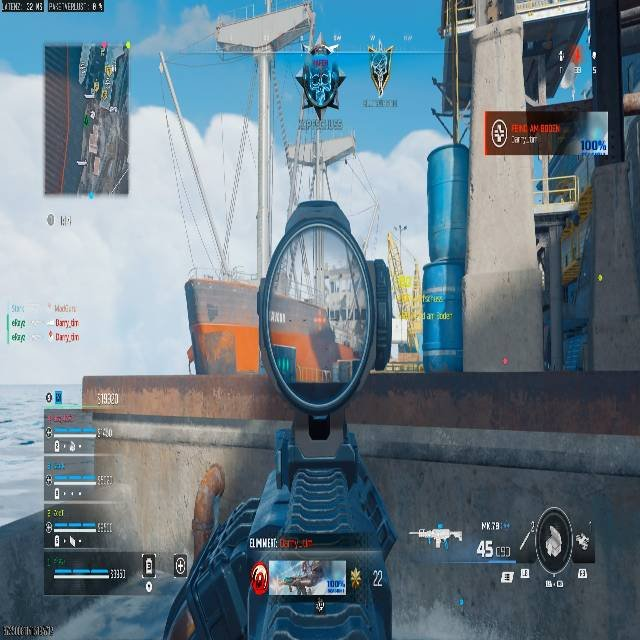player: (295, 44, 347, 118)
